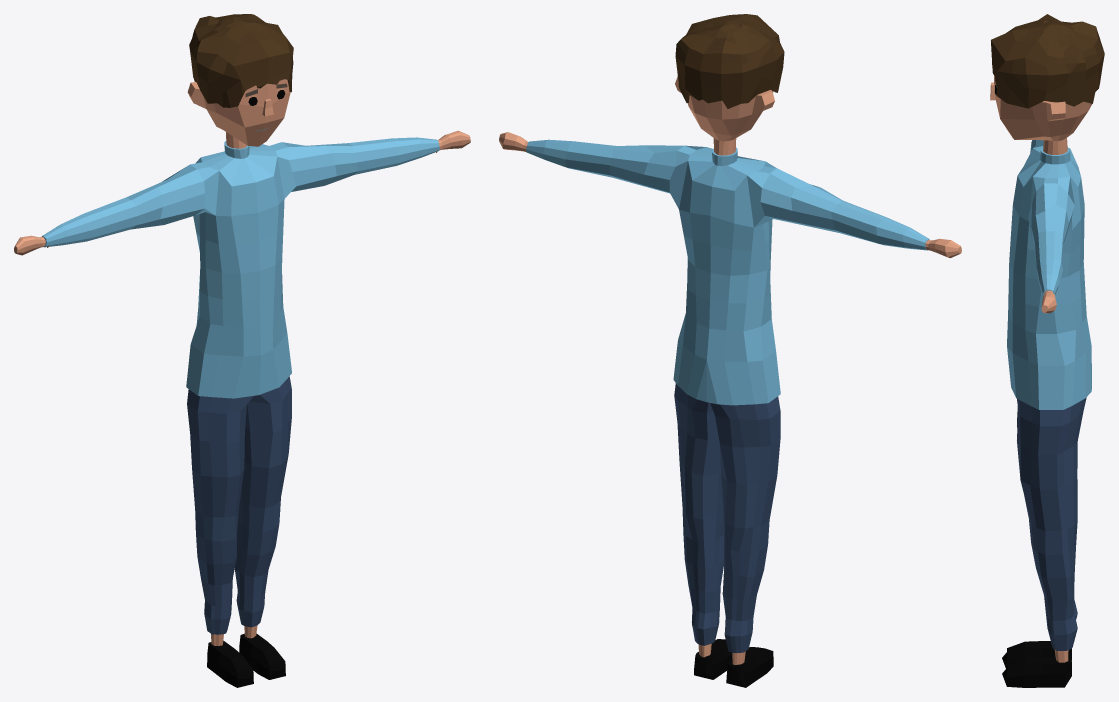
The model's file is npcmale2.fbx.
The picture shows the model from 3 angles, left to right: view 1: azimuth 30°, elevation 25°; view 2: azimuth 150°, elevation 25°; view 3: azimuth 270°, elevation 25°; orthographic projection.
Parts seen in each view (by area): view 1: Steve; view 2: Steve; view 3: Steve.
Boxes of the visible parts, box(x1,y1,x2,y2) form: Steve: box(14, 14, 470, 687); Steve: box(499, 14, 961, 687); Steve: box(990, 14, 1104, 687).
Size of the model in its own units: 128 by 174 by 27.77.
